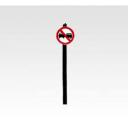NoUltrapassar: (54, 27, 76, 46)
